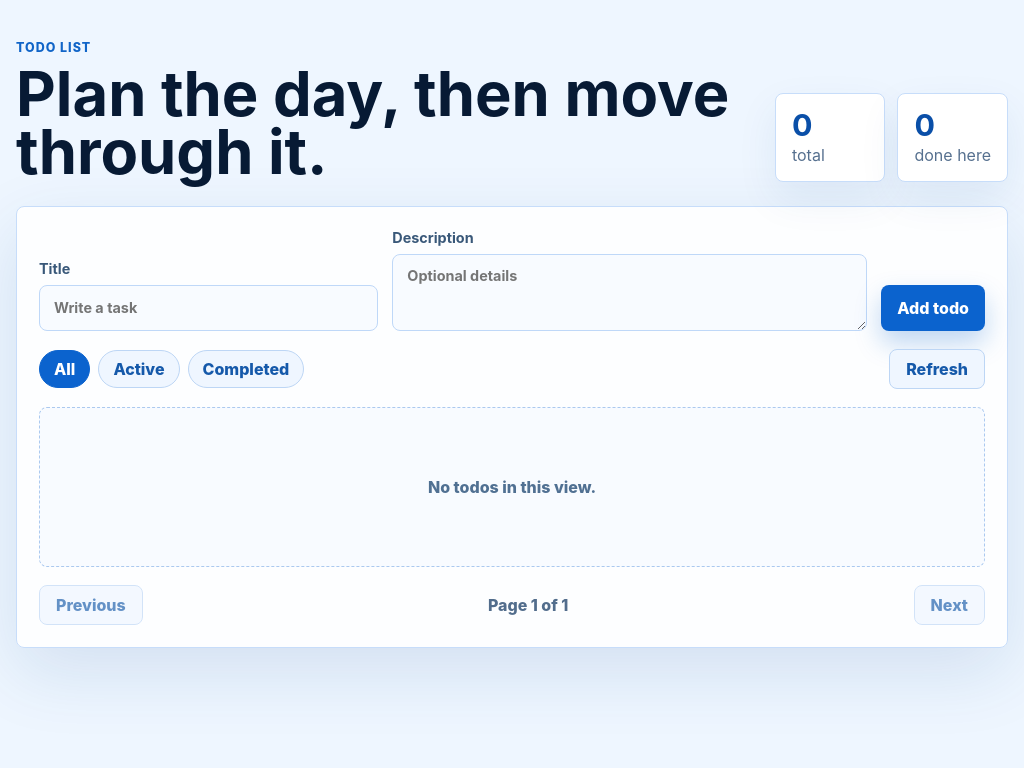
Test: App › creates a todo and refreshes the list
Check: the text "No todos in this view." is shown, box left=39, top=407, right=985, bottom=567
Type " Write tests " into the field labelled "Title" at [209, 308], box left=39, top=285, right=378, bottom=331
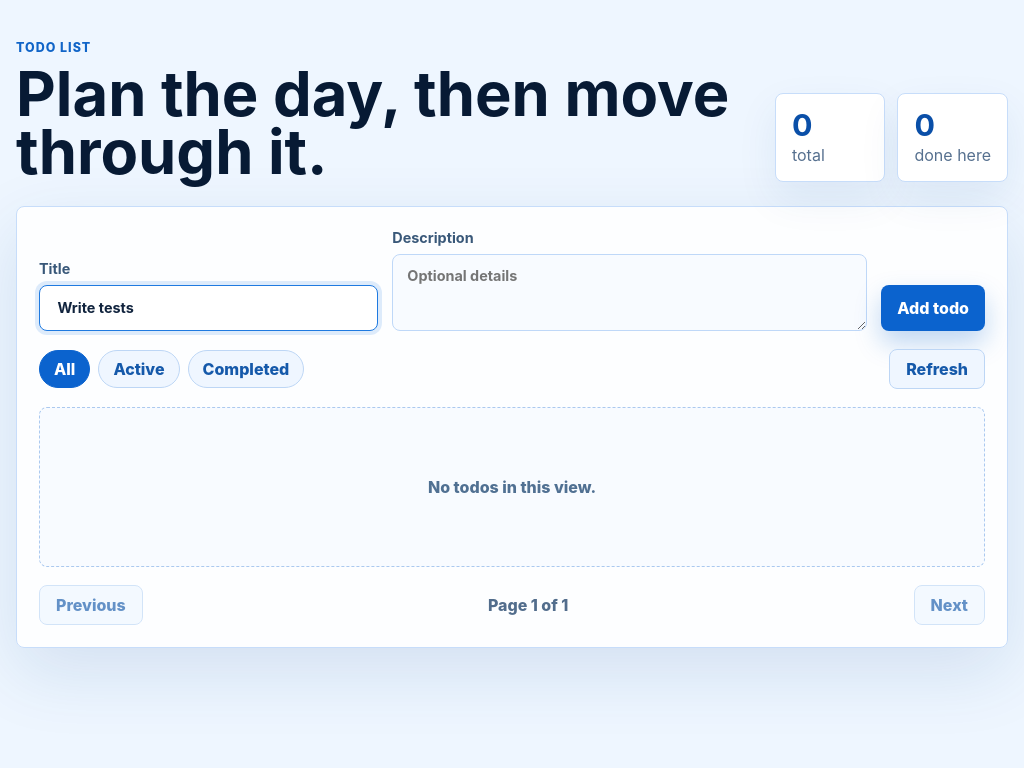
Type "Cover the main todo flow" into the text box labelled "Description" at [630, 292], box left=392, top=254, right=867, bottom=331
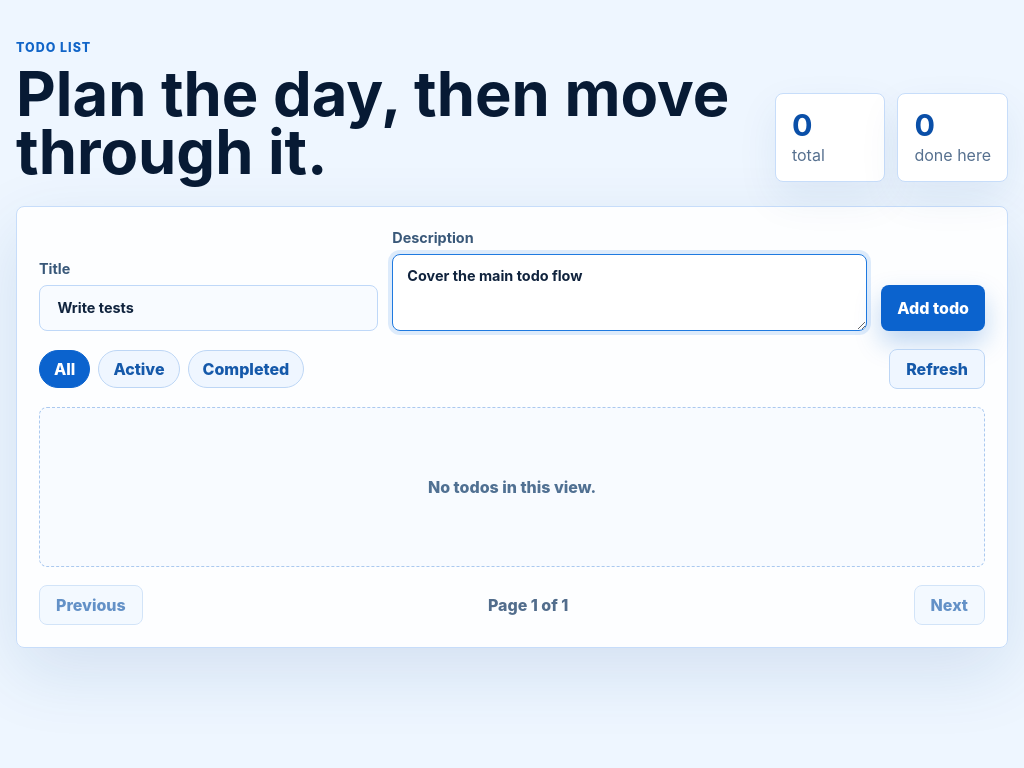
Click the button "Add todo" at [933, 308], box left=881, top=285, right=985, bottom=331
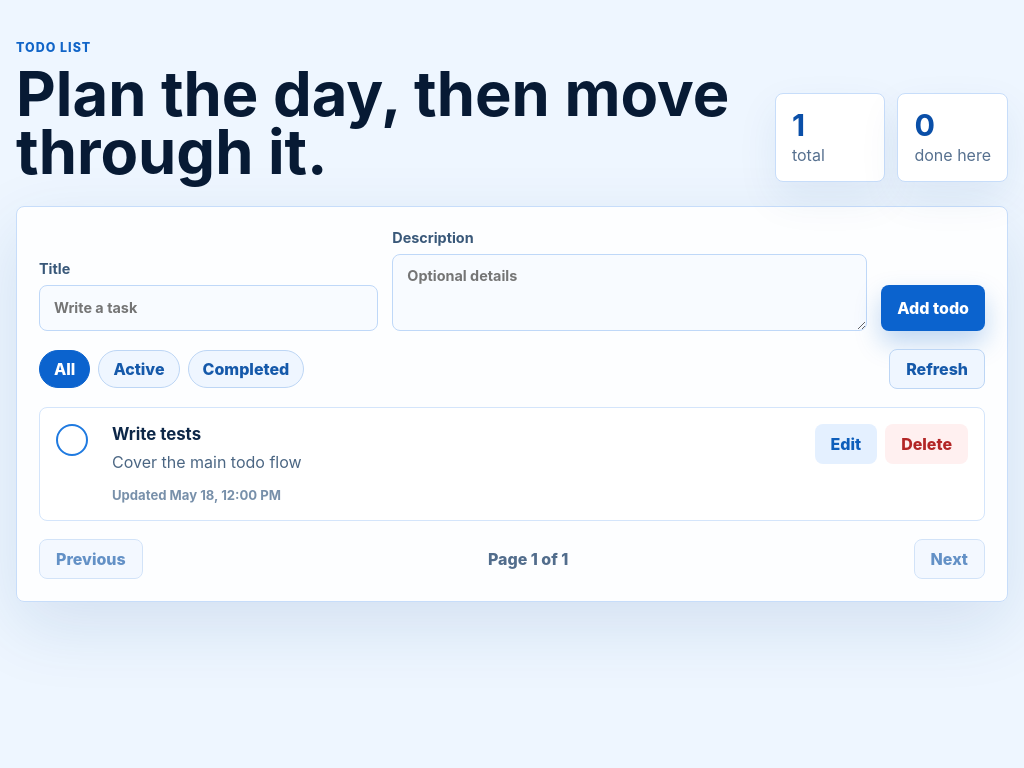
Check: the heading "Write tests" is shown, box left=112, top=424, right=201, bottom=444
Check: the field labelled "Title" is empty, box left=39, top=285, right=378, bottom=331
